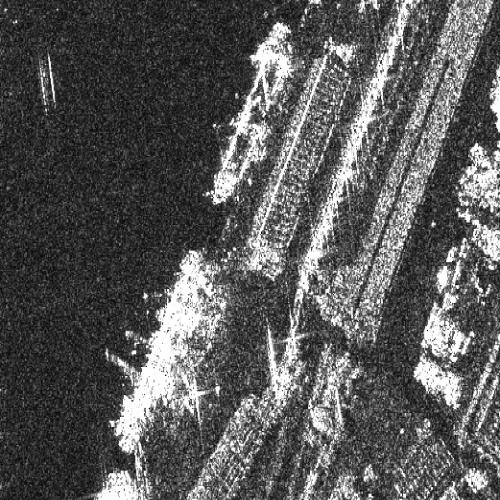ship: (115, 247, 213, 453), (211, 46, 290, 207)
